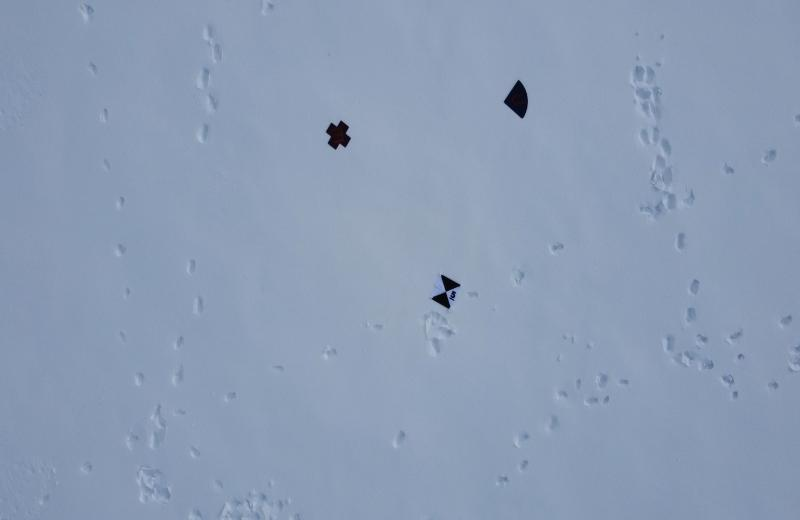Cross: (320, 118, 356, 153)
Quarter Circle: (499, 73, 536, 123)
